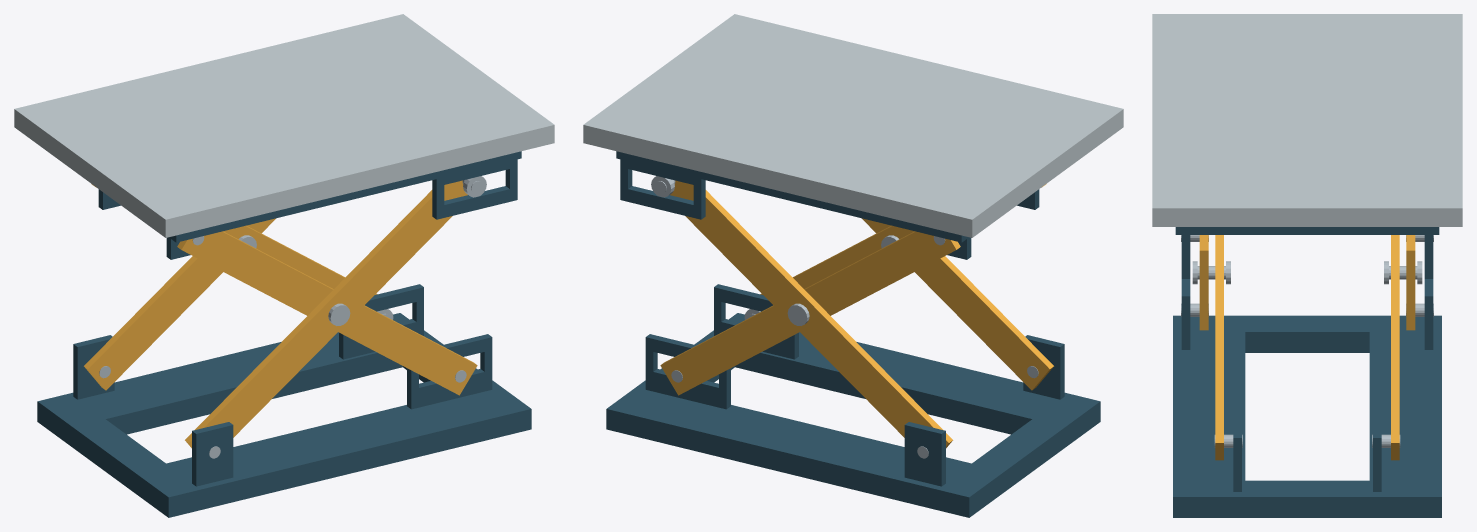
3 views of the same model, side by side, from view 1: azimuth 30°, elevation 25°; view 2: azimuth 150°, elevation 25°; view 3: azimuth 270°, elevation 25° (orthographic). The views are drawn at different scales.
Parts seen in each view (by area): view 1: Platform_BroadThickDeck, Base_ContinuousOpenGroundFrame, Front_RisingPerforatedArm, Front_FallingPerforatedArm, Back_RisingPerforatedArm, Top_IndependentOpenSupportFrame, Front_LowerGuideOpenSlot, Front_UpperGuideOpenSlot, Front_LowerFixedBoredEar, Back_LowerGuideOpenSlot, Back_FallingPerforatedArm, Back_LowerFixedBoredEar; view 2: Platform_BroadThickDeck, Base_ContinuousOpenGroundFrame, Back_RisingPerforatedArm, Back_FallingPerforatedArm, Front_RisingPerforatedArm, Top_IndependentOpenSupportFrame, Back_LowerGuideOpenSlot, Back_UpperGuideOpenSlot, Back_LowerFixedBoredEar, Front_LowerGuideOpenSlot, Front_FallingPerforatedArm, Front_LowerFixedBoredEar; view 3: Platform_BroadThickDeck, Base_ContinuousOpenGroundFrame, Top_IndependentOpenSupportFrame, Back_FallingPerforatedArm, Front_FallingPerforatedArm, Back_RisingPerforatedArm, Front_RisingPerforatedArm, Back_LowerGuideOpenSlot, Front_LowerGuideOpenSlot, Back_LowerFixedBoredEar, Front_LowerFixedBoredEar, Back_UpperGuideOpenSlot (+1 smaller).
Boxes of the visible parts, bbox=[...] form: Platform_BroadThickDeck: bbox=[14, 14, 554, 237]; Base_ContinuousOpenGroundFrame: bbox=[37, 313, 531, 517]; Front_RisingPerforatedArm: bbox=[185, 180, 467, 448]; Front_FallingPerforatedArm: bbox=[177, 231, 477, 395]; Back_RisingPerforatedArm: bbox=[84, 218, 275, 390]; Top_IndependentOpenSupportFrame: bbox=[169, 151, 521, 242]; Front_LowerGuideOpenSlot: bbox=[407, 334, 492, 409]; Front_UpperGuideOpenSlot: bbox=[432, 159, 517, 219]; Front_LowerFixedBoredEar: bbox=[192, 422, 233, 486]; Back_LowerGuideOpenSlot: bbox=[339, 284, 423, 359]; Back_FallingPerforatedArm: bbox=[91, 184, 377, 294]; Back_LowerFixedBoredEar: bbox=[73, 335, 114, 399]; Platform_BroadThickDeck: bbox=[583, 14, 1123, 237]; Base_ContinuousOpenGroundFrame: bbox=[606, 313, 1100, 517]; Back_RisingPerforatedArm: bbox=[670, 180, 952, 448]; Back_FallingPerforatedArm: bbox=[660, 231, 960, 395]; Front_RisingPerforatedArm: bbox=[862, 218, 1053, 390]; Top_IndependentOpenSupportFrame: bbox=[616, 151, 968, 242]; Back_LowerGuideOpenSlot: bbox=[645, 334, 730, 409]; Back_UpperGuideOpenSlot: bbox=[620, 159, 705, 219]; Back_LowerFixedBoredEar: bbox=[904, 422, 945, 486]; Front_LowerGuideOpenSlot: bbox=[714, 284, 798, 359]; Front_FallingPerforatedArm: bbox=[760, 184, 1046, 294]; Front_LowerFixedBoredEar: bbox=[1023, 335, 1064, 399]; Platform_BroadThickDeck: bbox=[1152, 14, 1462, 226]; Base_ContinuousOpenGroundFrame: bbox=[1173, 315, 1441, 517]; Top_IndependentOpenSupportFrame: bbox=[1175, 227, 1439, 234]; Back_FallingPerforatedArm: bbox=[1391, 235, 1399, 460]; Front_FallingPerforatedArm: bbox=[1215, 235, 1223, 460]; Back_RisingPerforatedArm: bbox=[1406, 235, 1415, 330]; Front_RisingPerforatedArm: bbox=[1199, 235, 1208, 330]; Back_LowerGuideOpenSlot: bbox=[1373, 397, 1381, 491]; Front_LowerGuideOpenSlot: bbox=[1233, 397, 1241, 491]; Back_LowerFixedBoredEar: bbox=[1424, 279, 1433, 349]; Front_LowerFixedBoredEar: bbox=[1181, 279, 1190, 349]; Back_UpperGuideOpenSlot: bbox=[1424, 235, 1433, 278].
Size of the model in its own units: 1.78 by 1.35 by 1.2.
